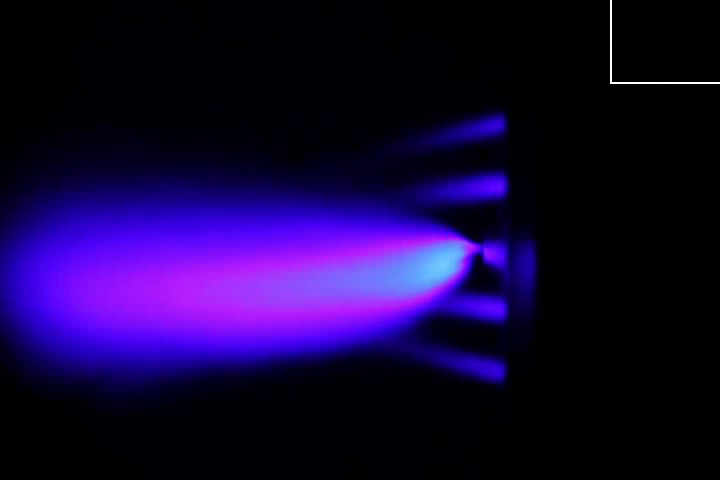burner cap: (484, 241, 509, 273)
pilot flame: (400, 336, 508, 383), (406, 170, 511, 209), (413, 116, 505, 141), (439, 292, 505, 323)
stable: (100, 228, 479, 317)
